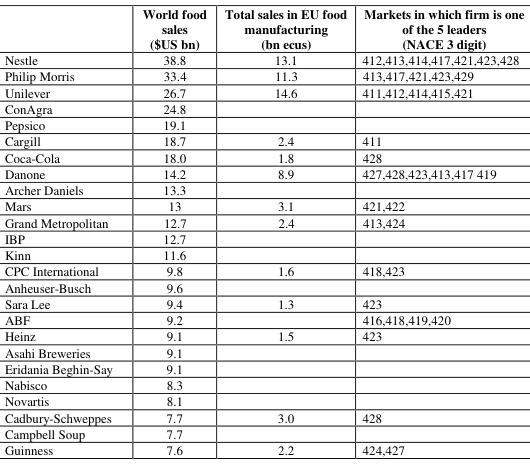table: (3, 4, 523, 457)
table column: (353, 4, 523, 457), (214, 4, 353, 457), (3, 4, 126, 457), (126, 4, 214, 457)
table column header: (3, 4, 523, 51)
table row: (3, 4, 523, 51), (3, 115, 523, 132), (3, 180, 523, 197), (3, 245, 523, 262), (3, 310, 523, 327), (3, 375, 523, 392), (3, 440, 523, 457), (3, 51, 523, 67), (3, 67, 523, 83), (3, 83, 523, 99), (3, 99, 523, 115), (3, 132, 523, 148), (3, 148, 523, 164), (3, 164, 523, 180), (3, 197, 523, 213), (3, 213, 523, 229), (3, 229, 523, 245), (3, 262, 523, 278), (3, 278, 523, 294), (3, 294, 523, 310), (3, 327, 523, 343), (3, 343, 523, 359), (3, 359, 523, 375), (3, 392, 523, 408), (3, 408, 523, 424), (3, 424, 523, 440)
